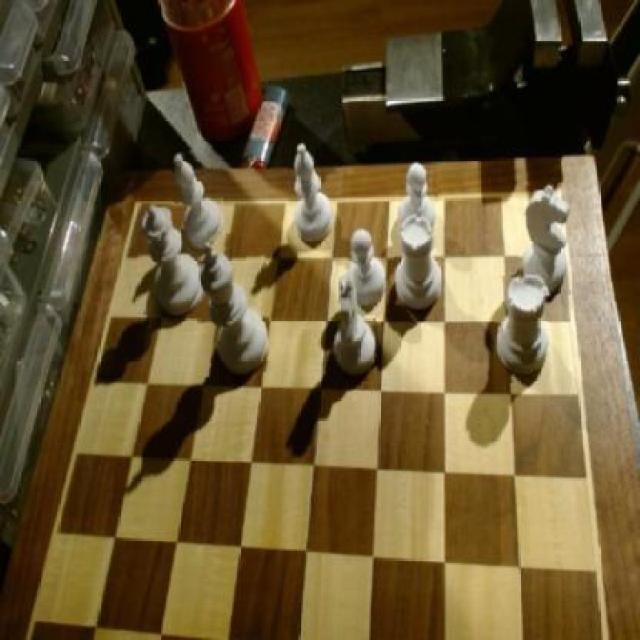black-rook: (174, 148, 226, 252), (288, 136, 334, 246)
white-bishop: (195, 231, 271, 376)
white-king: (517, 183, 571, 297), (331, 277, 378, 383)
white-knight: (349, 222, 388, 304), (397, 160, 438, 235)
white-pawn: (137, 204, 208, 318)
white-queen: (495, 274, 550, 382), (394, 217, 441, 318)
